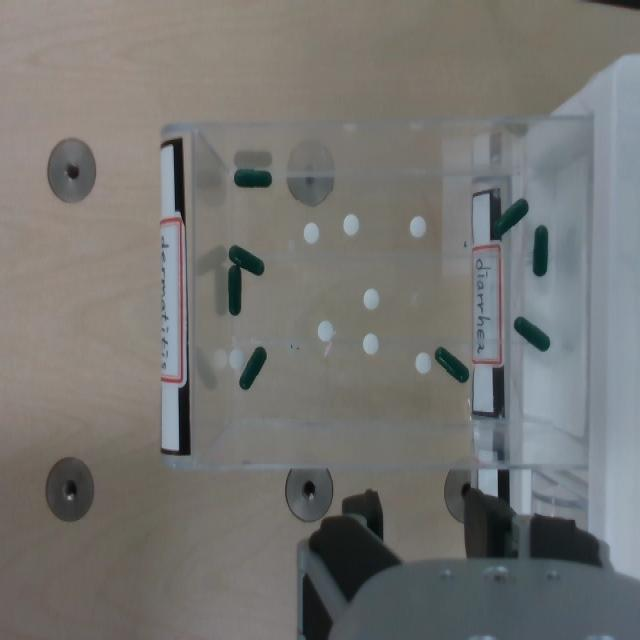ganakan_tab: (414, 350, 433, 376), (409, 214, 427, 240), (228, 346, 245, 370), (343, 213, 360, 237), (362, 331, 379, 355), (363, 287, 380, 310), (304, 222, 320, 244), (318, 320, 334, 342), (343, 213, 359, 235), (317, 320, 333, 341), (415, 352, 431, 373), (363, 288, 379, 309), (409, 216, 425, 237), (363, 333, 378, 355), (303, 223, 319, 243), (229, 348, 244, 369)
monodoxy_cap: (491, 195, 528, 239), (514, 314, 551, 352), (493, 199, 528, 239), (434, 344, 469, 383), (238, 344, 267, 390), (228, 243, 265, 278), (513, 316, 550, 351), (434, 347, 469, 383), (239, 347, 266, 389), (229, 245, 264, 275), (532, 223, 550, 277), (532, 224, 548, 276), (234, 169, 273, 189), (228, 265, 242, 316), (234, 169, 271, 187), (228, 264, 241, 315)
